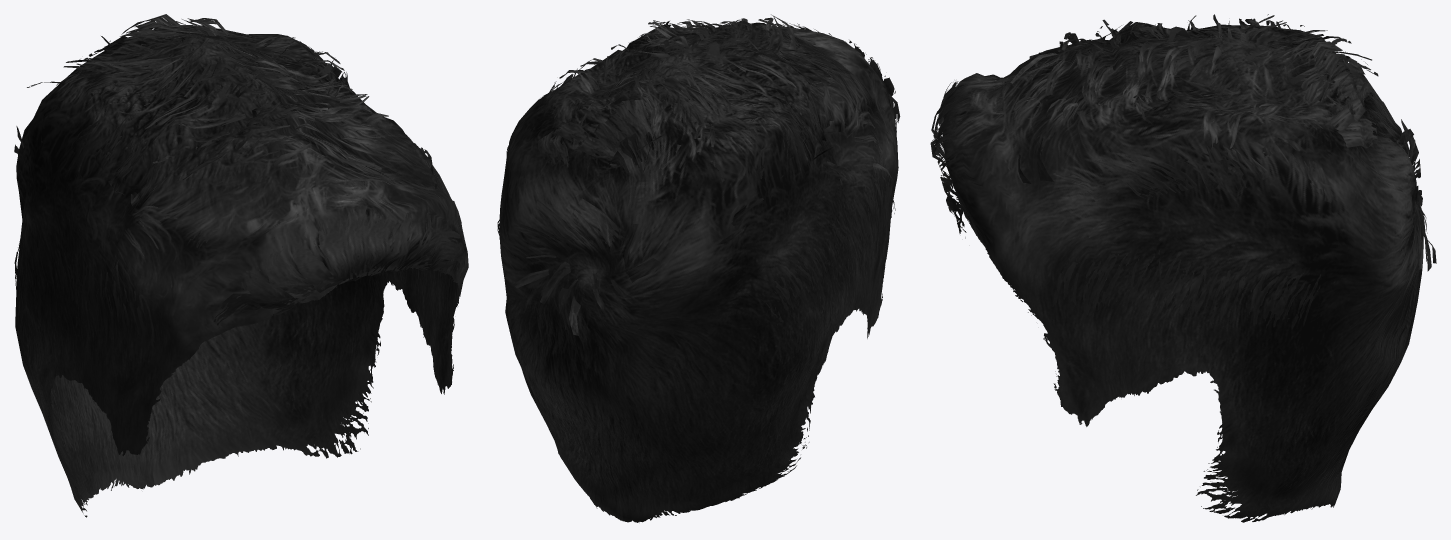
The model's file is mh_short01.glb.
3 views of the same model, side by side, from view 1: azimuth 30°, elevation 25°; view 2: azimuth 150°, elevation 25°; view 3: azimuth 270°, elevation 25° (orthographic). The views are drawn at different scales.
Visible parts, largest first — view 1: mh_short01; view 2: mh_short01; view 3: mh_short01.
Part boxes in pixels (box(x1,y1,x2,y2)): mh_short01: box(14, 14, 468, 517); mh_short01: box(497, 14, 900, 522); mh_short01: box(930, 14, 1436, 522).
Bounding box in the file's own units: 0.1617 × 0.2213 × 0.2164.
Materials: 1 (1 with a texture image).
